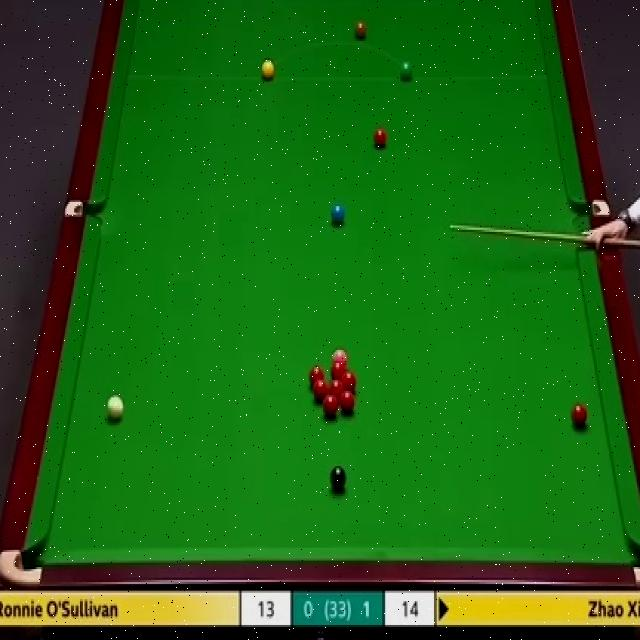black-ball: (329, 464, 346, 494)
blue-ball: (330, 204, 345, 227)
brown-ball: (354, 20, 368, 41)
green-ball: (398, 61, 415, 84)
pink-ball: (332, 348, 348, 361)
red-ball: (570, 403, 588, 430), (340, 392, 355, 416), (309, 366, 324, 388), (324, 394, 338, 417), (341, 371, 355, 394), (373, 127, 388, 148), (327, 378, 344, 396), (331, 360, 347, 379), (313, 381, 328, 401), (260, 519, 261, 520)
white-ball: (106, 396, 125, 424)
yellow-ball: (261, 60, 275, 81)
